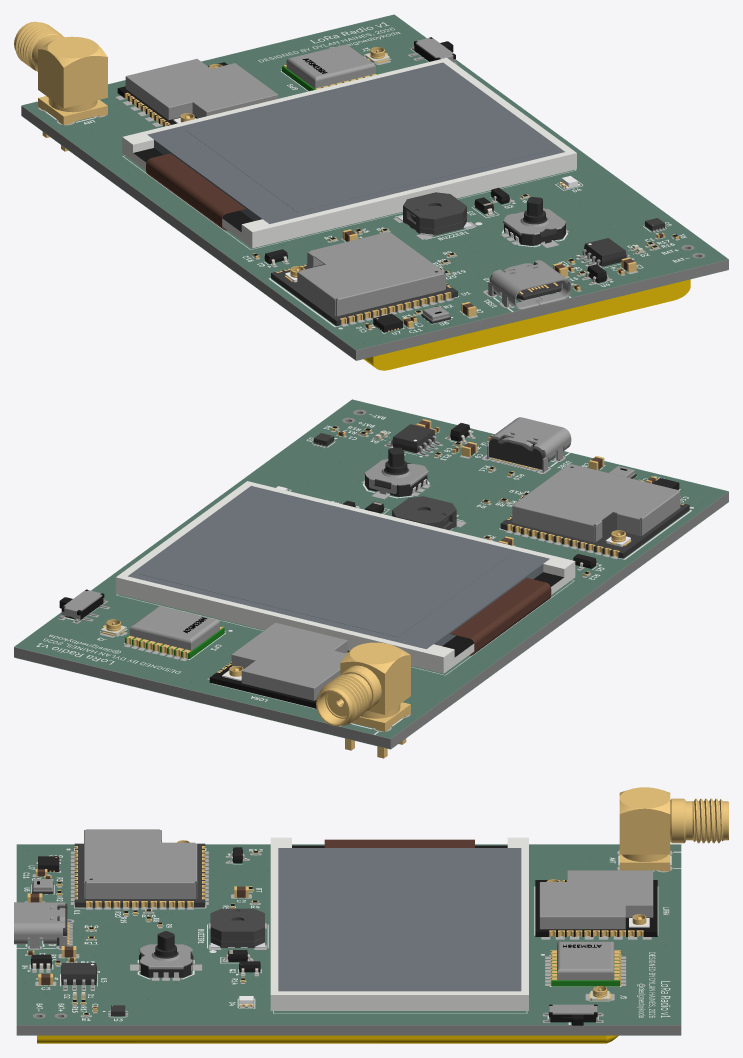
The picture shows the model from 3 angles, top to bottom: view 1: azimuth 30°, elevation 25°; view 2: azimuth 150°, elevation 25°; view 3: azimuth 270°, elevation 25°; orthographic projection.
Parts seen in each view (by area): view 1: =>[0:1:1:28], =>[0:1:1:27], Glass, U1, Screen support, LORA, ANT, COMPOUND008, =>[0:1:1:26], USB1, Ribon cable, GPS (+5 smaller); view 2: =>[0:1:1:28], =>[0:1:1:27], Glass, U1, Screen support, LORA, ANT, GPS, USB1, Ribon cable, =>[0:1:1:26], SW1 (+4 smaller); view 3: =>[0:1:1:28], =>[0:1:1:27], Glass, U1, Screen support, LORA, ANT, COMPOUND008, =>[0:1:1:26], GPS, =>[0:1:1:25], USB1 (+5 smaller).
Part boxes in pixels (bbox=[...]): =>[0:1:1:28]: bbox=[21, 15, 728, 360]; =>[0:1:1:27]: bbox=[22, 14, 728, 360]; Glass: bbox=[147, 62, 564, 223]; U1: bbox=[271, 232, 457, 326]; Screen support: bbox=[122, 57, 576, 248]; LORA: bbox=[117, 59, 278, 126]; ANT: bbox=[14, 21, 107, 151]; COMPOUND008: bbox=[363, 279, 690, 370]; =>[0:1:1:26]: bbox=[37, 22, 689, 334]; USB1: bbox=[488, 260, 571, 310]; Ribon cable: bbox=[146, 153, 245, 230]; GPS: bbox=[282, 44, 377, 91]; =>[0:1:1:28]: bbox=[14, 400, 728, 749]; =>[0:1:1:27]: bbox=[14, 399, 728, 749]; Glass: bbox=[128, 486, 549, 649]; U1: bbox=[500, 464, 689, 558]; Screen support: bbox=[115, 481, 575, 673]; LORA: bbox=[209, 622, 349, 708]; ANT: bbox=[316, 642, 410, 758]; GPS: bbox=[125, 606, 224, 659]; USB1: bbox=[487, 417, 571, 472]; Ribon cable: bbox=[450, 577, 551, 655]; =>[0:1:1:26]: bbox=[36, 414, 693, 734]; SW1: bbox=[364, 447, 428, 496]; =>[0:1:1:28]: bbox=[16, 845, 681, 1035]; =>[0:1:1:27]: bbox=[16, 844, 681, 1035]; Glass: bbox=[278, 848, 521, 991]; U1: bbox=[74, 829, 205, 907]; Screen support: bbox=[270, 837, 528, 1010]; LORA: bbox=[535, 870, 657, 936]; ANT: bbox=[619, 787, 728, 871]; COMPOUND008: bbox=[37, 1035, 618, 1043]; =>[0:1:1:26]: bbox=[16, 848, 681, 1024]; GPS: bbox=[550, 941, 620, 986]; =>[0:1:1:25]: bbox=[24, 850, 672, 1022]; USB1: bbox=[14, 902, 69, 948].
Size of the model in its own units: 0.0597 by 0.0153 by 0.0987.
